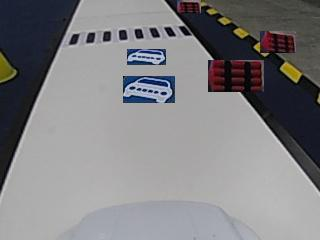crosswalk: (66, 25, 190, 46)
